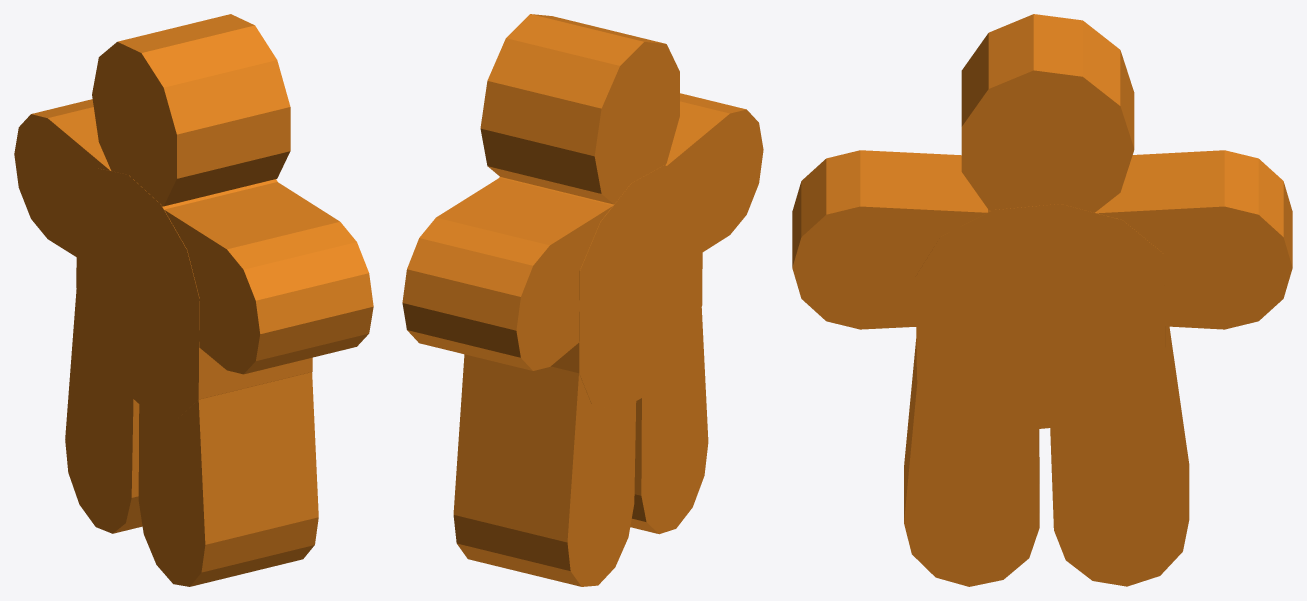
Rendered from uczestnik_2.fbx.
The picture shows the model from 3 angles, left to right: view 1: azimuth 30°, elevation 25°; view 2: azimuth 150°, elevation 25°; view 3: azimuth 270°, elevation 25°; orthographic projection.
Parts seen in each view (by area): view 1: Cylinder.005; view 2: Cylinder.005; view 3: Cylinder.005.
Boxes of the visible parts, left/top/right/bottom form: Cylinder.005: left=14, top=14, right=373, bottom=586; Cylinder.005: left=402, top=14, right=763, bottom=586; Cylinder.005: left=792, top=14, right=1292, bottom=586.
Size of the model in its own units: 197 by 840 by 737.
